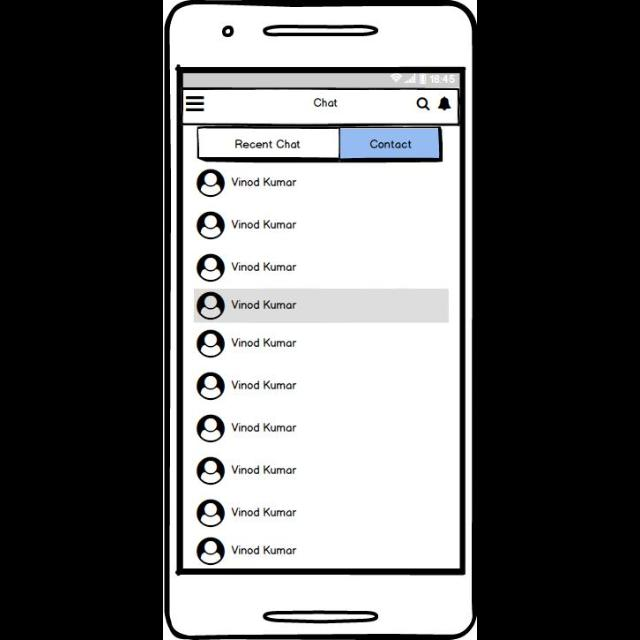icon: (197, 498, 226, 528), (197, 372, 226, 401), (197, 170, 227, 198), (197, 292, 227, 320), (197, 330, 226, 358), (198, 212, 226, 240), (198, 254, 226, 282), (198, 457, 225, 485), (197, 538, 226, 564), (198, 416, 226, 442), (187, 96, 205, 112), (416, 98, 430, 112), (438, 97, 452, 111)
text: (232, 219, 298, 229), (232, 262, 298, 272), (232, 338, 298, 348), (232, 380, 298, 390), (232, 422, 298, 432), (232, 545, 298, 555), (232, 465, 296, 475), (232, 178, 298, 186), (232, 301, 298, 309), (232, 508, 298, 516), (314, 98, 338, 108)
textbutton: (198, 126, 338, 160), (340, 126, 442, 162)
